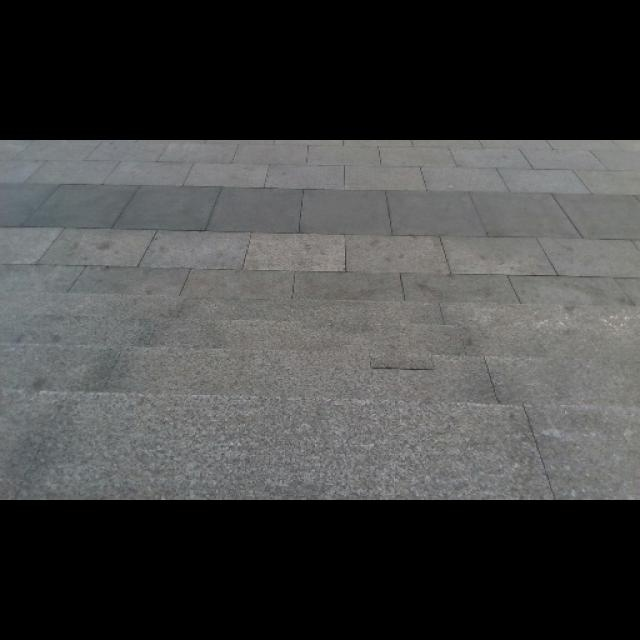stair: (0, 293, 631, 483)
